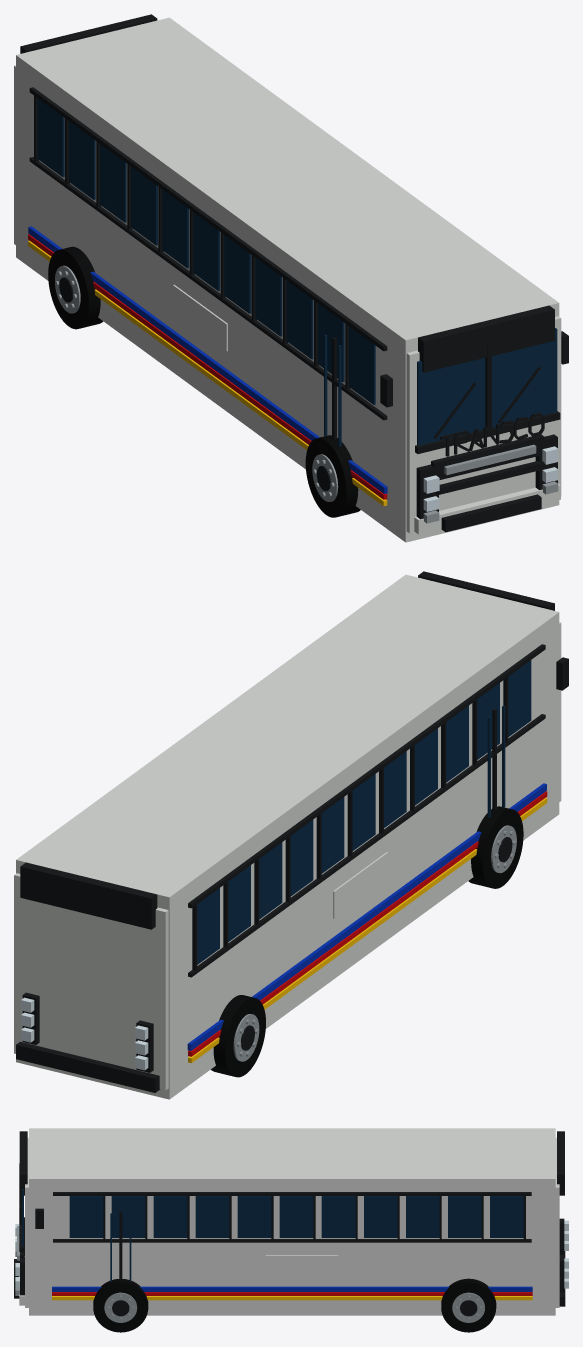
The model's file is BusTransco.obj.
3 renders of one model, top to bottom at view 1: azimuth 30°, elevation 25°; view 2: azimuth 150°, elevation 25°; view 3: azimuth 270°, elevation 25°, orthographic. The views are drawn at different scales.
Parts seen in each view (by area): view 1: Caisse_Paint_White, Caisse_Glass_Tinted_Blue, Caisse_Metal_Dark, Caisse_Stripe_Blue, Roue_ARD_Pneu, Roue_AVD_Pneu, Caisse_Stripe_Yellow, Caisse_Stripe_Red, Caisse_Metal_Silver, Roue_ARD_Jante, Roue_AVD_Jante; view 2: Caisse_Paint_White, Caisse_Metal_Dark, Caisse_Glass_Tinted_Blue, Caisse_Stripe_Blue, Roue_ARD_Pneu, Roue_AVD_Pneu, Caisse_Stripe_Yellow, Caisse_Stripe_Red, Stop, Roue_ARD_Jante, Roue_AVD_Jante; view 3: Caisse_Paint_White, Caisse_Glass_Tinted_Blue, Caisse_Metal_Dark, Caisse_Stripe_Blue, Roue_ARG_Pneu, Caisse_Stripe_Yellow, Roue_AVG_Pneu, Caisse_Stripe_Red, Roue_AVG_Jante, Roue_ARG_Jante.
Boxes of the visible parts, x1,y1,x2,y2 form: Caisse_Paint_White: (14,17,561,542); Caisse_Glass_Tinted_Blue: (37,98,557,446); Caisse_Metal_Dark: (20,14,568,532); Caisse_Stripe_Blue: (28,226,387,493); Roue_ARD_Pneu: (48,246,103,329); Roue_AVD_Pneu: (305,435,360,517); Caisse_Stripe_Yellow: (28,240,387,506); Caisse_Stripe_Red: (28,234,387,499); Caisse_Metal_Silver: (423,444,558,523); Roue_ARD_Jante: (55,265,80,313); Roue_AVD_Jante: (312,454,338,501); Caisse_Paint_White: (14,574,561,1099); Caisse_Metal_Dark: (16,571,568,1092); Caisse_Glass_Tinted_Blue: (197,660,531,964); Caisse_Stripe_Blue: (187,783,546,1050); Roue_ARD_Pneu: (211,995,265,1077); Roue_AVD_Pneu: (468,806,523,888); Caisse_Stripe_Yellow: (188,797,547,1063); Caisse_Stripe_Red: (188,791,547,1056); Stop: (21,997,148,1070); Roue_ARD_Jante: (233,1014,259,1061); Roue_AVD_Jante: (491,825,516,873); Caisse_Paint_White: (19,1128,559,1315); Caisse_Glass_Tinted_Blue: (22,1189,523,1281); Caisse_Metal_Dark: (14,1131,565,1306); Caisse_Stripe_Blue: (52,1286,532,1291); Roue_ARG_Pneu: (441,1278,496,1332); Caisse_Stripe_Yellow: (52,1296,532,1300); Roue_AVG_Pneu: (93,1279,148,1332); Caisse_Stripe_Red: (52,1292,532,1295); Roue_AVG_Jante: (104,1292,137,1322); Roue_ARG_Jante: (452,1292,484,1322).
Size of the model in its own units: 2.97 by 3.43 by 11.48.
